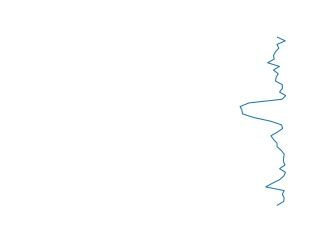interdistributaryEstuary: (237, 36, 293, 207)
